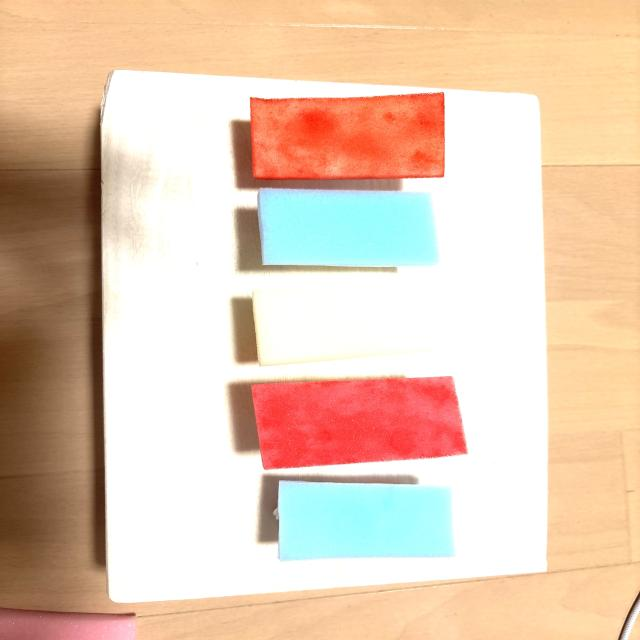ika: (258, 188, 438, 267), (278, 481, 454, 561)
maguro: (252, 377, 467, 469)
salmon: (250, 93, 445, 179)
tamago: (253, 288, 444, 366)
